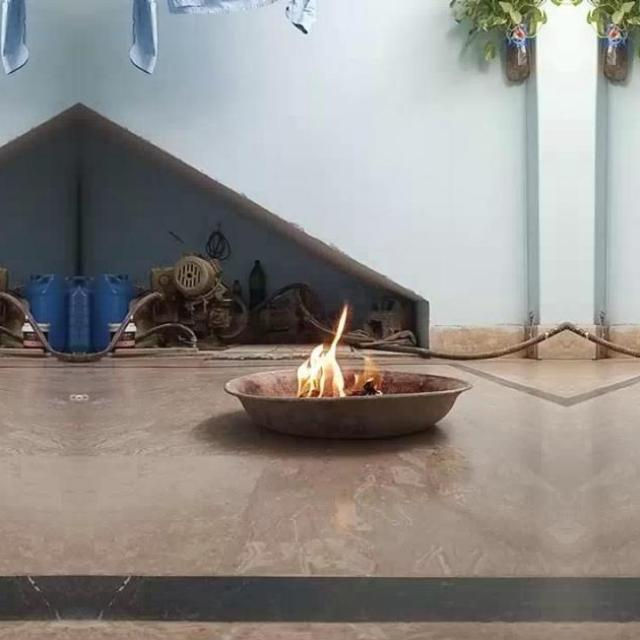smoke: (294, 302, 348, 397)
